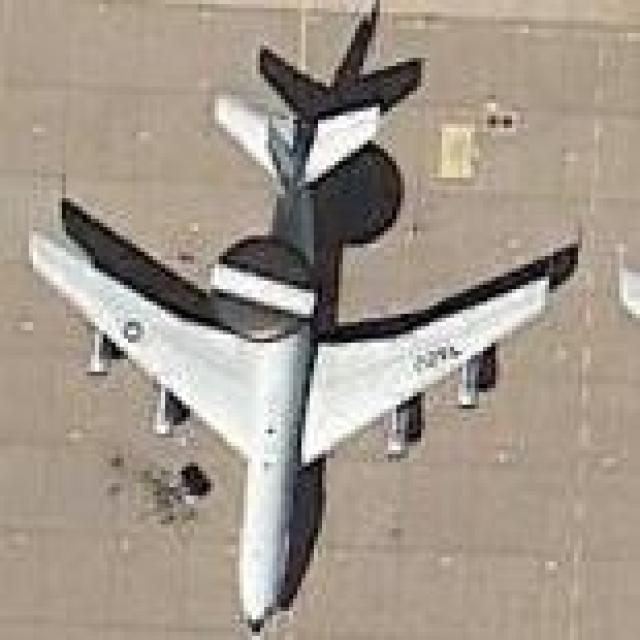E-3_TopDown: (21, 0, 582, 636)
